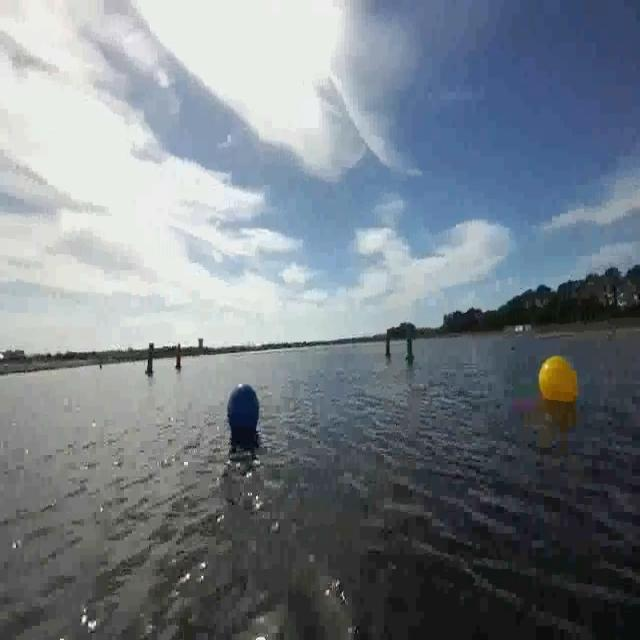blue-buoy: (228, 382, 260, 438)
green-column-buoy: (406, 324, 416, 362), (145, 343, 155, 376)
red-column-buoy: (384, 333, 392, 359), (174, 346, 183, 369)
yellow-buoy: (539, 356, 580, 404)
